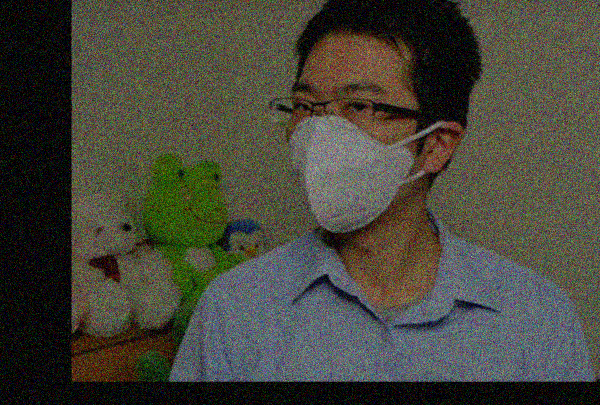with_mask: (284, 76, 417, 236)
